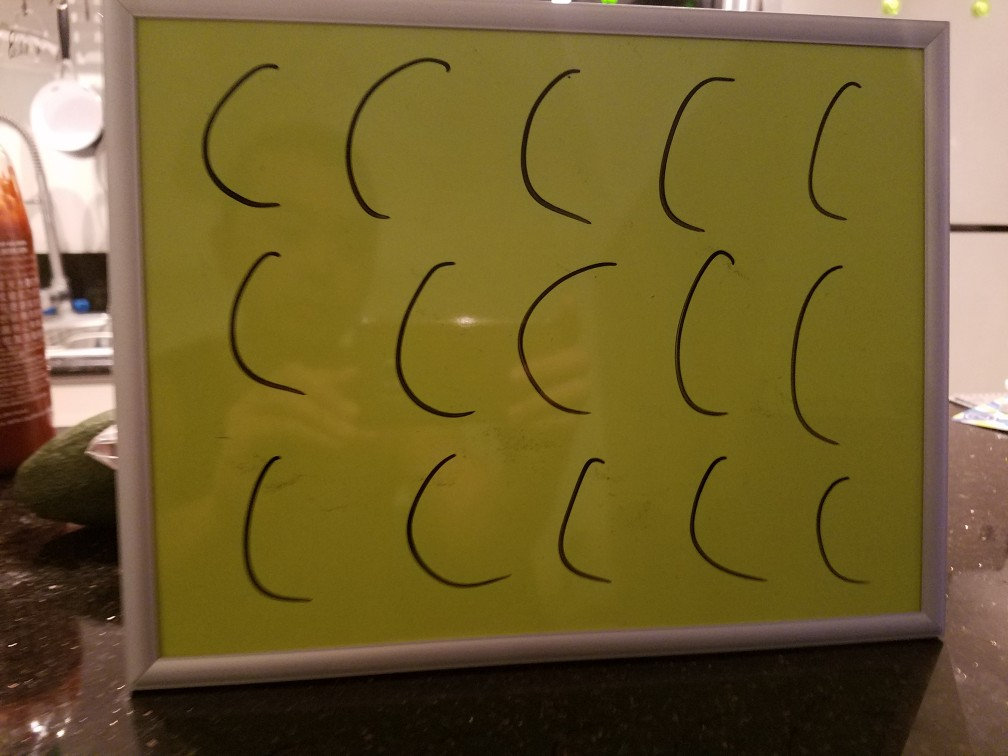(: (332, 46, 452, 235), (393, 442, 522, 607), (180, 45, 292, 213), (377, 253, 485, 426), (511, 256, 617, 422), (779, 253, 863, 456), (512, 57, 606, 236), (668, 247, 757, 432), (647, 62, 740, 238), (224, 444, 317, 618), (215, 244, 309, 404), (673, 447, 769, 589), (798, 63, 870, 228), (548, 441, 617, 594), (806, 468, 882, 593)
